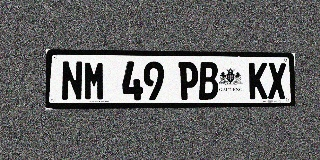4: (122, 61, 143, 100)
9: (144, 61, 164, 100)
B: (199, 62, 218, 100)
K: (249, 62, 267, 99)
M: (84, 61, 105, 101)
N: (61, 61, 83, 101)
P: (178, 62, 198, 100)
X: (268, 63, 286, 99)
